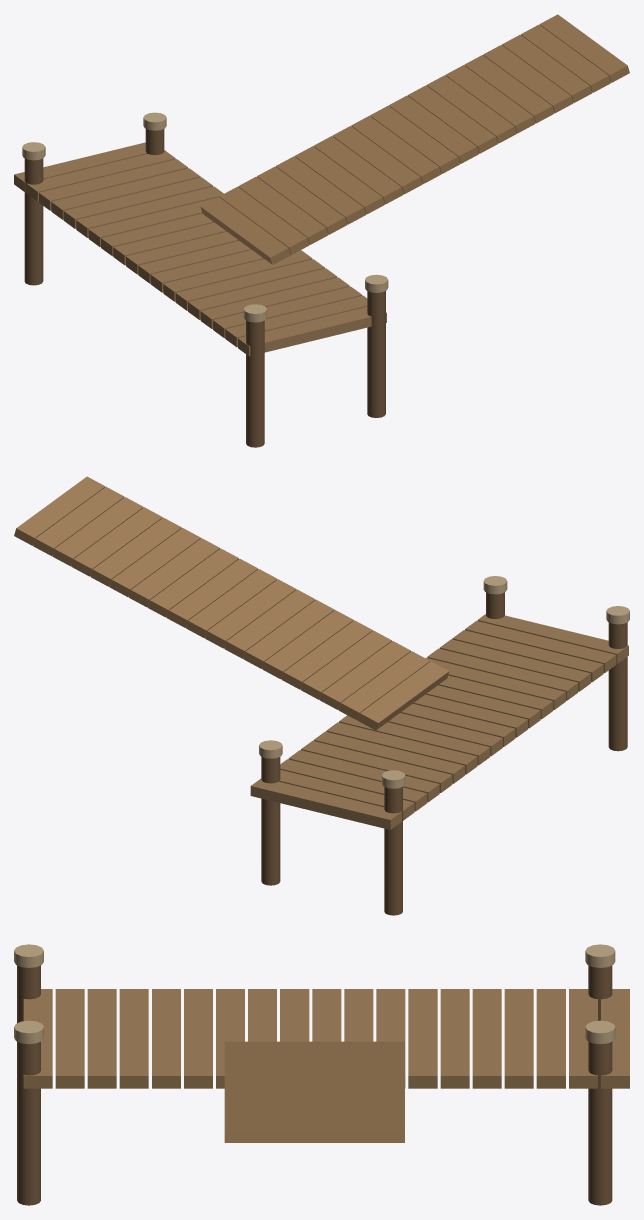
Rendered from ocean-harbor-dock.glb.
The picture shows the model from 3 angles, top to bottom: view 1: azimuth 30°, elevation 25°; view 2: azimuth 150°, elevation 25°; view 3: azimuth 270°, elevation 25°; orthographic projection. The views are drawn at different scales.
Parts seen in each view (by area): view 1: harbor-dock-solid; view 2: harbor-dock-solid; view 3: harbor-dock-solid.
Part boxes in pixels (bbox=[...]): harbor-dock-solid: bbox=[14, 14, 629, 447]; harbor-dock-solid: bbox=[14, 476, 629, 915]; harbor-dock-solid: bbox=[14, 944, 629, 1205].
Bounding box in the file's own units: 6.84 × 3.03 × 6.14.
